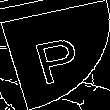P_N: (26, 26, 84, 84)
